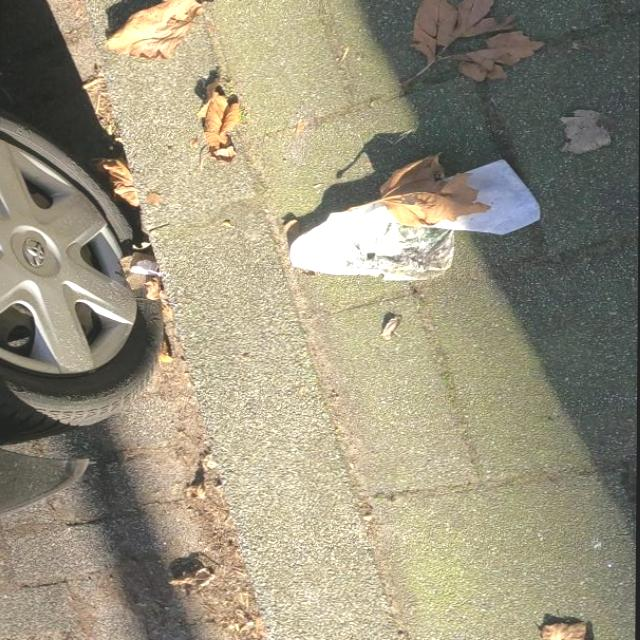Paper: (287, 157, 542, 283)
